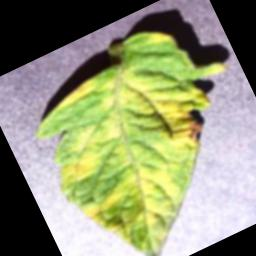Leaf_Mold: (14, 2, 256, 256)
